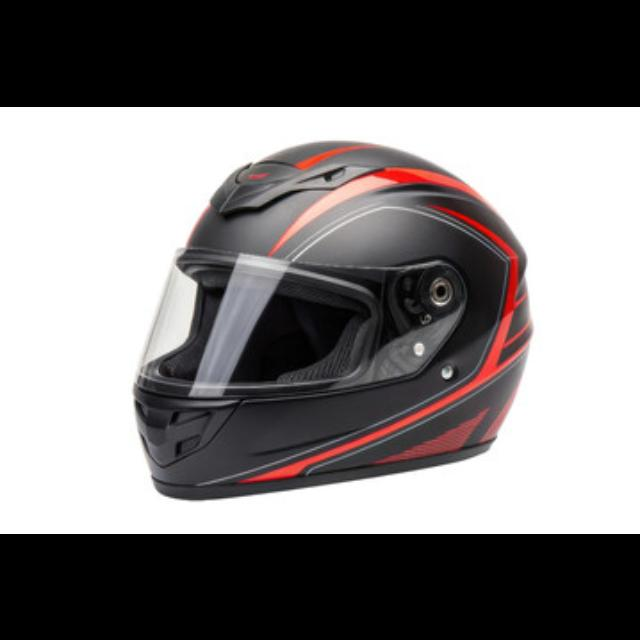motorcycle-helmets: (126, 140, 534, 504)
